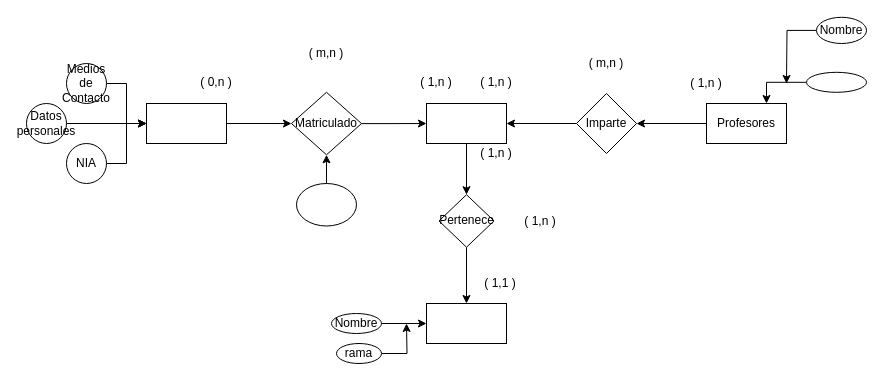
Some shapes in this 884 by 382 pixel diagram are drawn without their labels. Each missing label, with the box of its shape:
Alumnos: (146, 102, 226, 144)
Asignaturas: (426, 102, 506, 144)
C.profesor: (806, 71, 866, 92)
Calificaciones: (296, 182, 356, 226)
Carreras: (426, 302, 506, 344)
